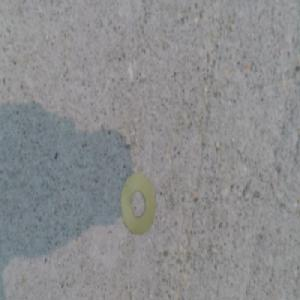Washer: (116, 168, 154, 236)
